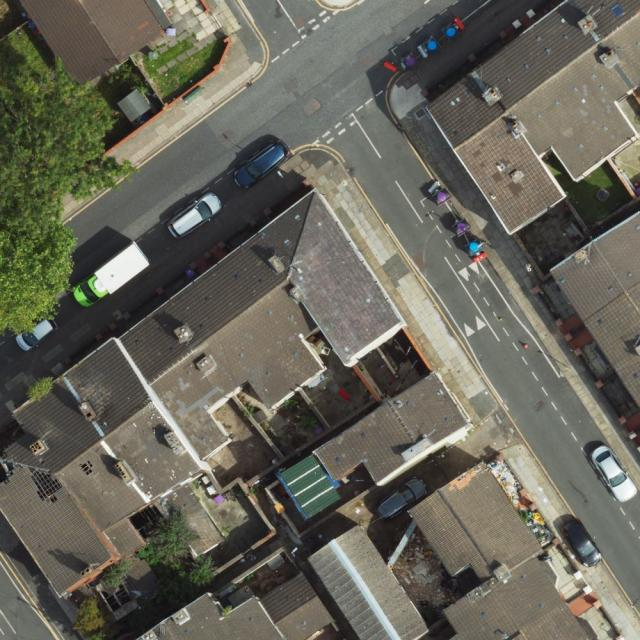roof: (0, 187, 405, 594), (426, 0, 640, 232), (135, 524, 431, 640), (410, 461, 592, 640), (276, 370, 470, 515), (549, 212, 640, 410), (18, 0, 166, 88)
skylight: (610, 3, 627, 20)
